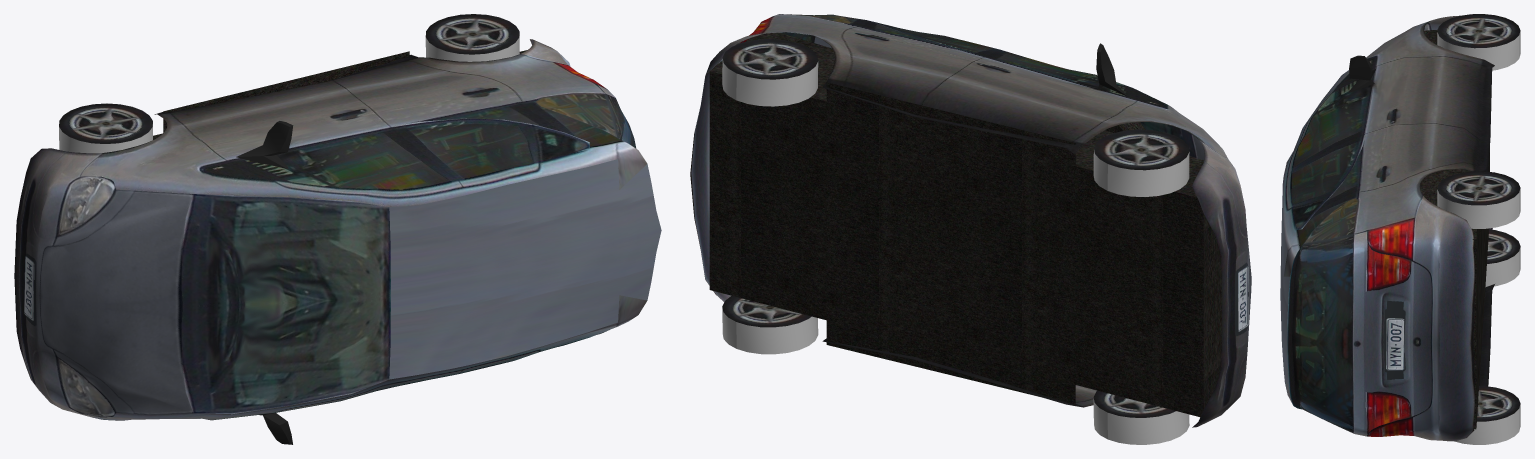
The model's file is Car_11.obj.
3 renders of one model, left to right at view 1: azimuth 30°, elevation 25°; view 2: azimuth 150°, elevation 25°; view 3: azimuth 270°, elevation 25°, orthographic. The views are drawn at different scales.
Visible parts, largest first — view 1: _1body, _1tyres, _1tyresurf, _1fill; view 2: _1fill, _1body, _1tyresurf, _1tyres, _1plates; view 3: _1body, _1tyres, _1tyresurf, _1fill, _1plates.
Part boxes in pixels (box(x1,y1,x2,y2)): _1body: box(14, 39, 661, 444); _1tyres: box(59, 14, 519, 143); _1tyresurf: box(59, 36, 519, 153); _1fill: box(153, 50, 527, 139); _1fill: box(709, 32, 1221, 416); _1body: box(690, 14, 1251, 427); _1tyresurf: box(722, 59, 1189, 444); _1tyres: box(722, 39, 1189, 417); _1plates: box(1238, 266, 1248, 331); _1body: box(1280, 15, 1494, 441); _1tyres: box(1437, 14, 1520, 421); _1tyresurf: box(1437, 31, 1520, 444); _1fill: box(1420, 29, 1489, 429); _1plates: box(1386, 318, 1404, 370).
Bounding box in the file's own units: 3.84 × 2.17 × 1.67.
